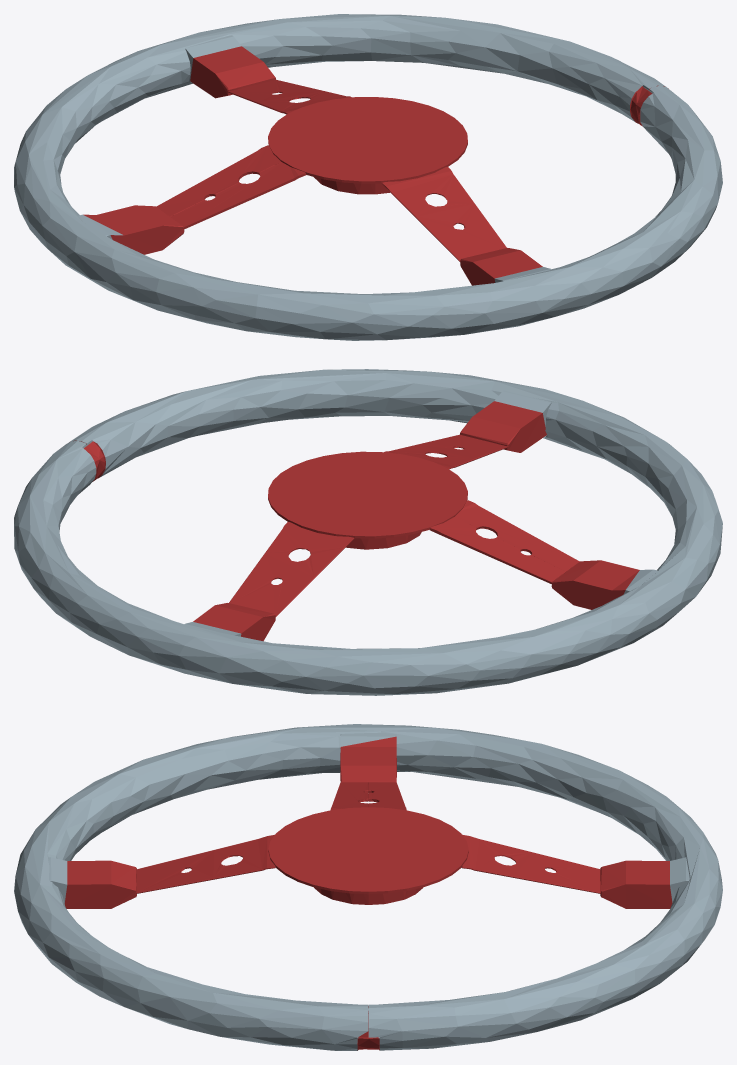
The model's file is steering.dae.
3 views of the same model, one above another, from view 1: azimuth 30°, elevation 25°; view 2: azimuth 150°, elevation 25°; view 3: azimuth 270°, elevation 25° (orthographic).
Visible parts, largest first — view 1: wheel; view 2: wheel; view 3: wheel.
Part boxes in pixels (x1,y1,x2,y2): wheel: (14,14,722,340); wheel: (14,369,722,695); wheel: (14,724,722,1050).
Size of the model in its own units: 0.2497 by 0.2496 by 0.0232.
1 material, 1 textured.
